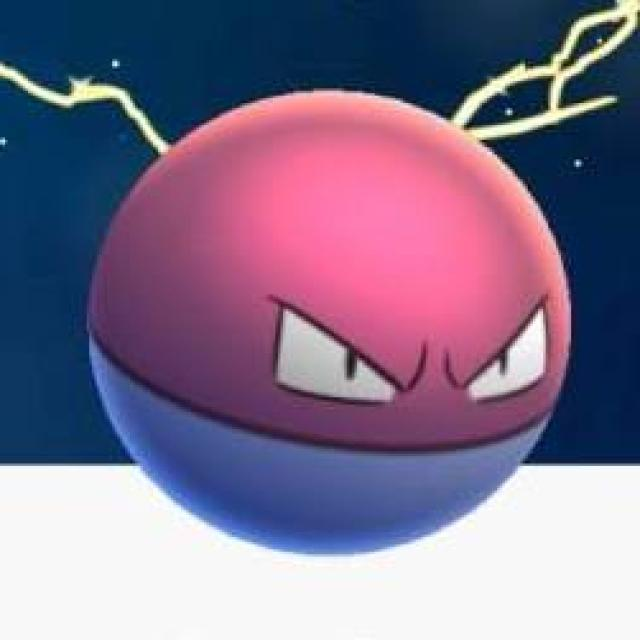Voltorb: (82, 90, 574, 557)
